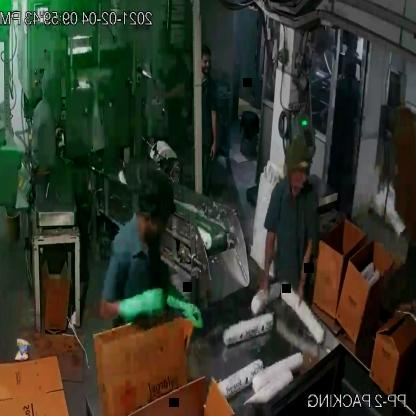glove: (96, 278, 166, 336), (159, 272, 214, 336)
no_glove: (294, 221, 323, 309), (258, 214, 278, 305), (153, 72, 191, 108), (204, 102, 220, 170)
